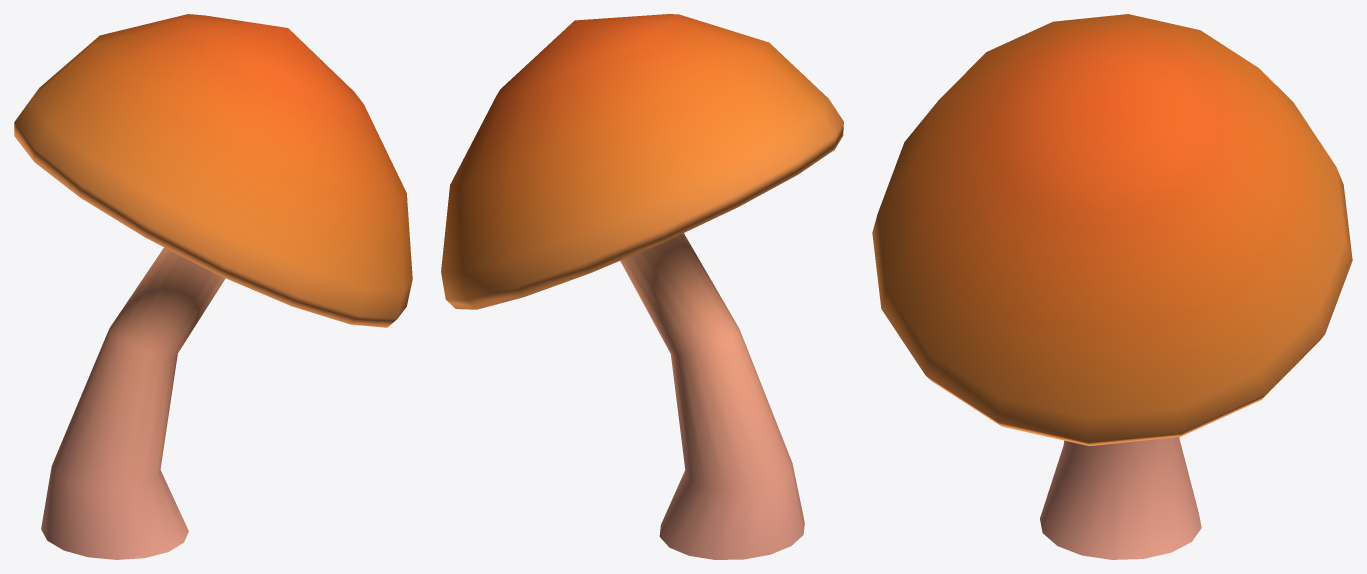
Rendered from mushroom_08.fbx.
The picture shows the model from 3 angles, left to right: view 1: azimuth 30°, elevation 25°; view 2: azimuth 150°, elevation 25°; view 3: azimuth 270°, elevation 25°; orthographic projection. The views are drawn at different scales.
Visible parts, largest first — view 1: mushroom; view 2: mushroom; view 3: mushroom.
Boxes of the visible parts, bbox=[...] form: mushroom: bbox=[14, 14, 412, 559]; mushroom: bbox=[441, 14, 843, 559]; mushroom: bbox=[872, 14, 1352, 559].
Size of the model in its own units: 50.12 by 68.86 by 56.42.
